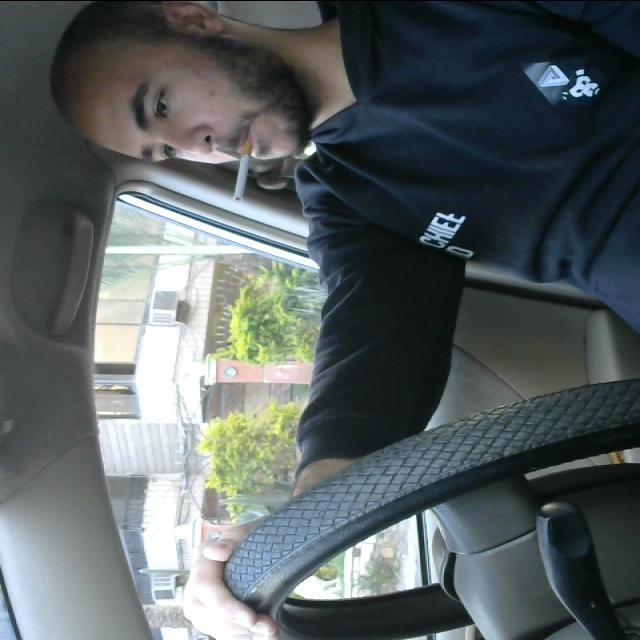smoking: (225, 135, 260, 212)
